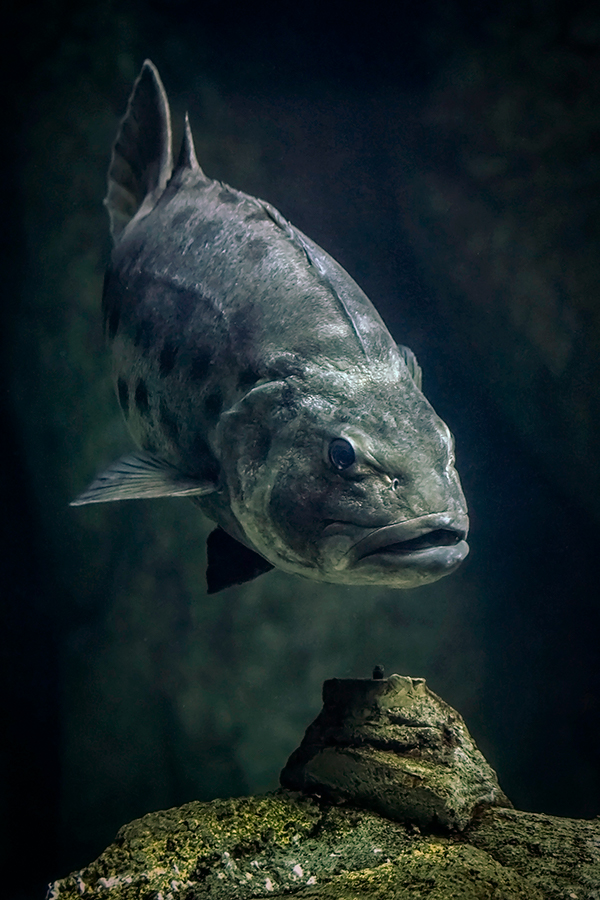Giant Bass: (60, 30, 560, 699)
